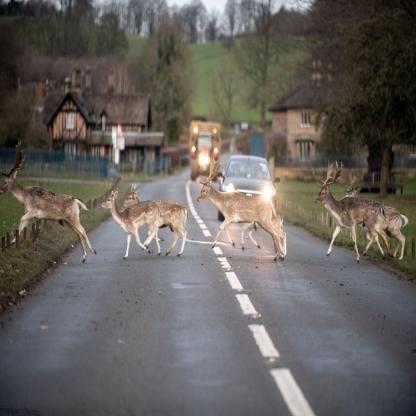Deer: (0, 139, 98, 265), (196, 155, 286, 264), (313, 157, 394, 266), (337, 170, 410, 262), (122, 183, 188, 259), (100, 189, 162, 261), (230, 188, 288, 260)
